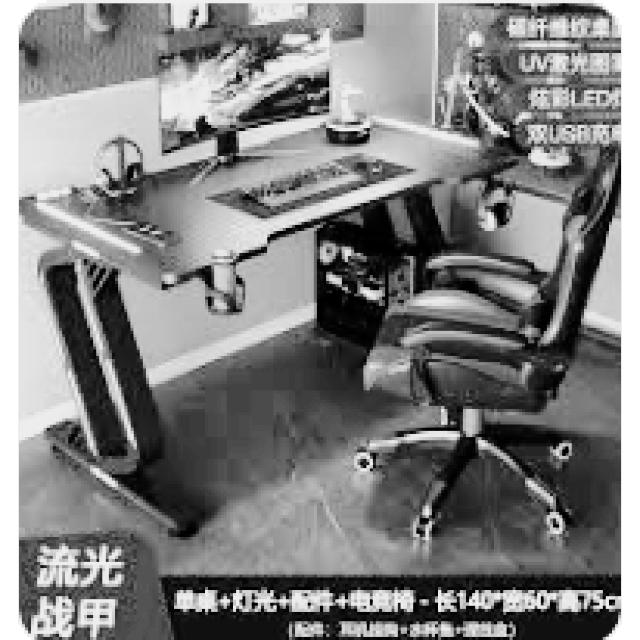book: (351, 144, 618, 540)
table: (19, 109, 612, 534)
